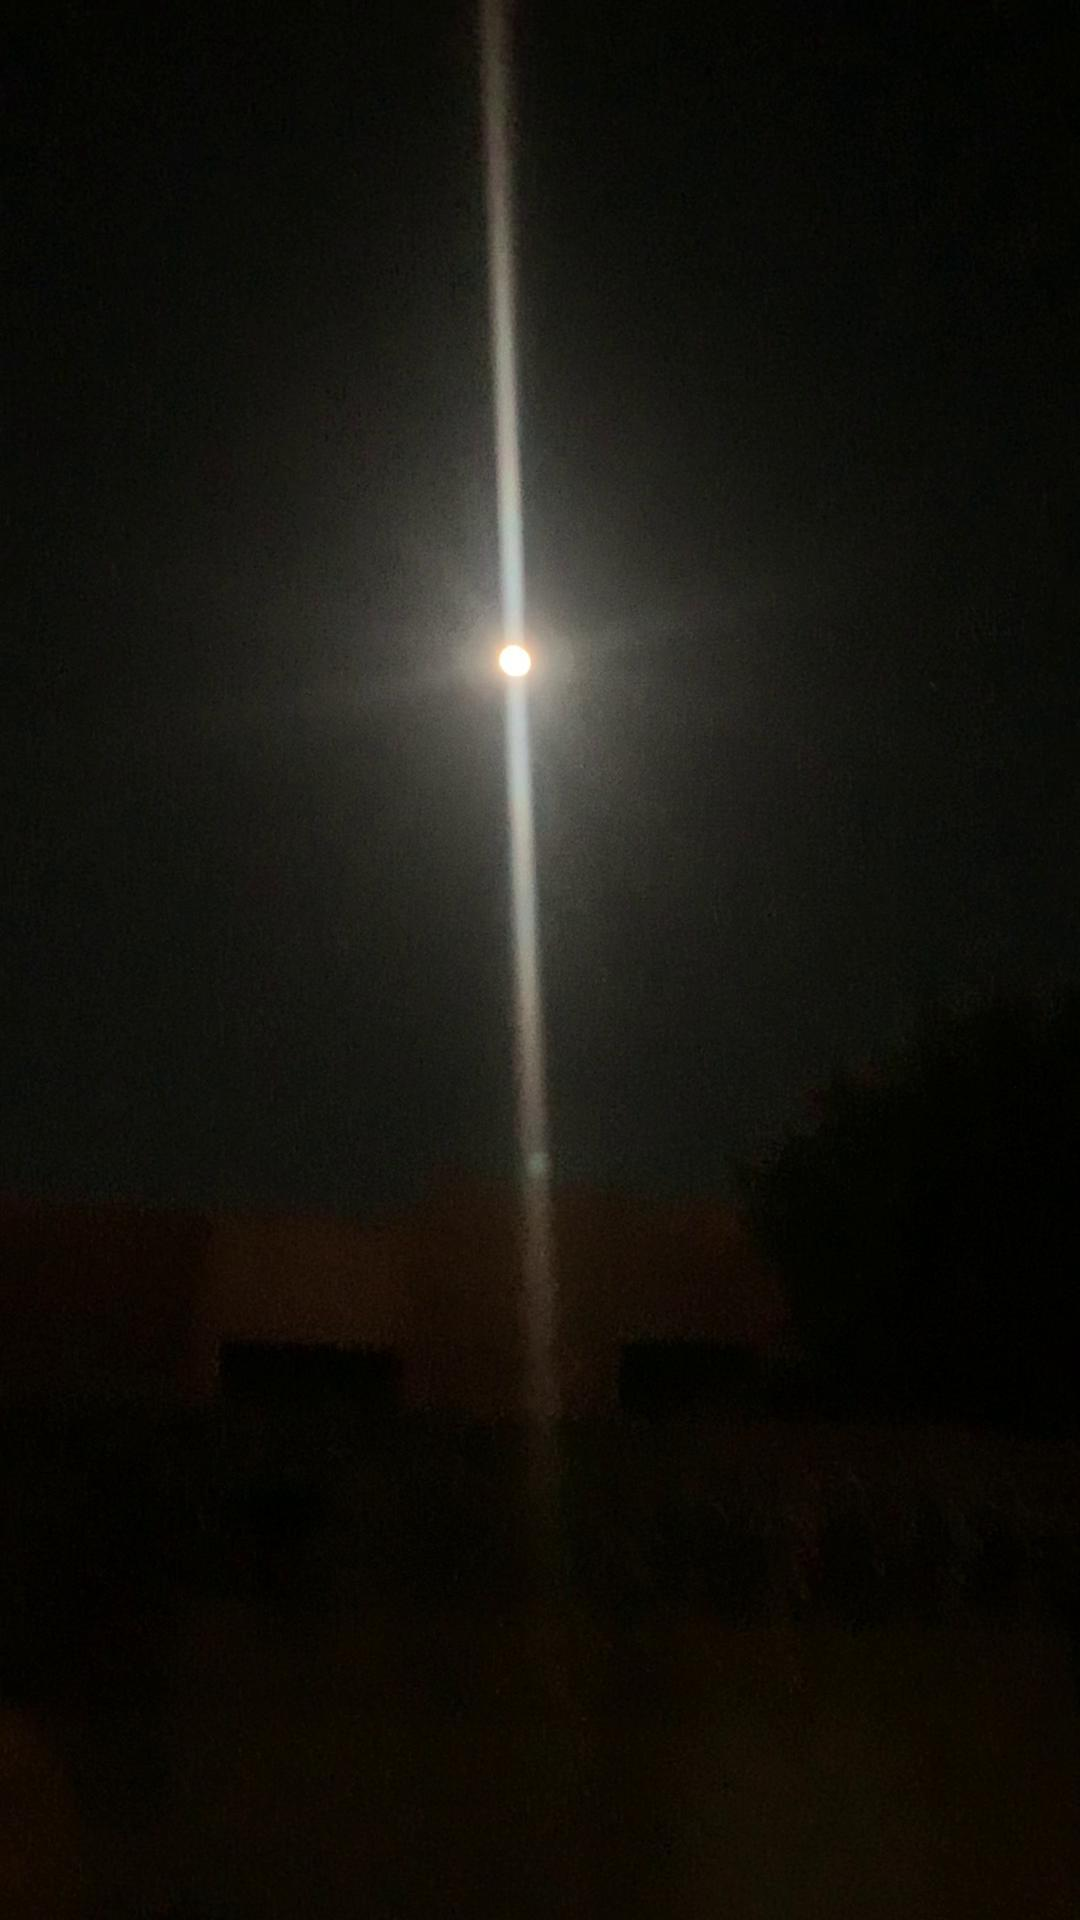moon: (462, 621, 566, 720)
